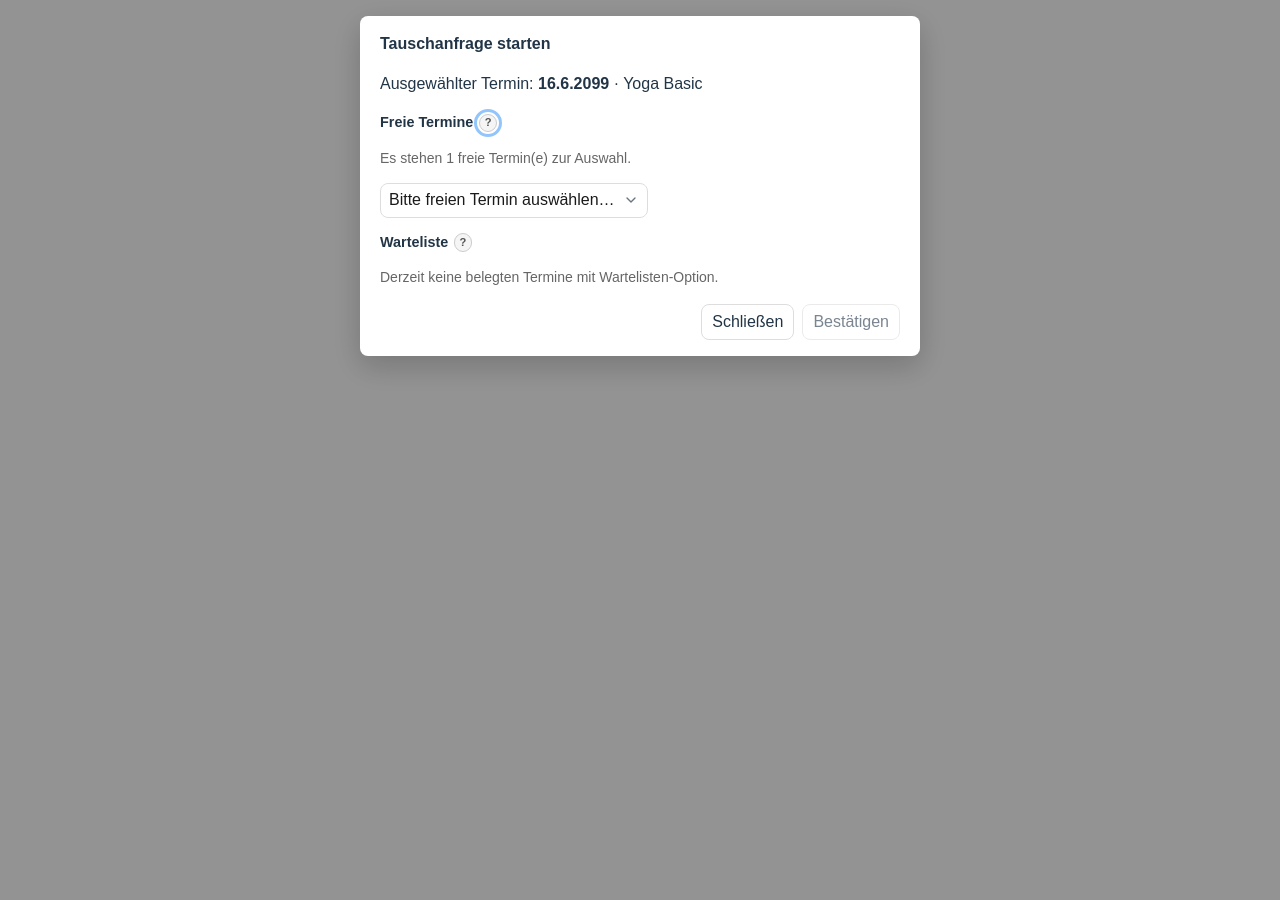
Test: CourseSwapModal › meldet Hilfetext beim Öffnen über aria-live
Click the button named "Hilfe: Freie Tauschtermine" at point(488, 123), box [479,114,497,132]
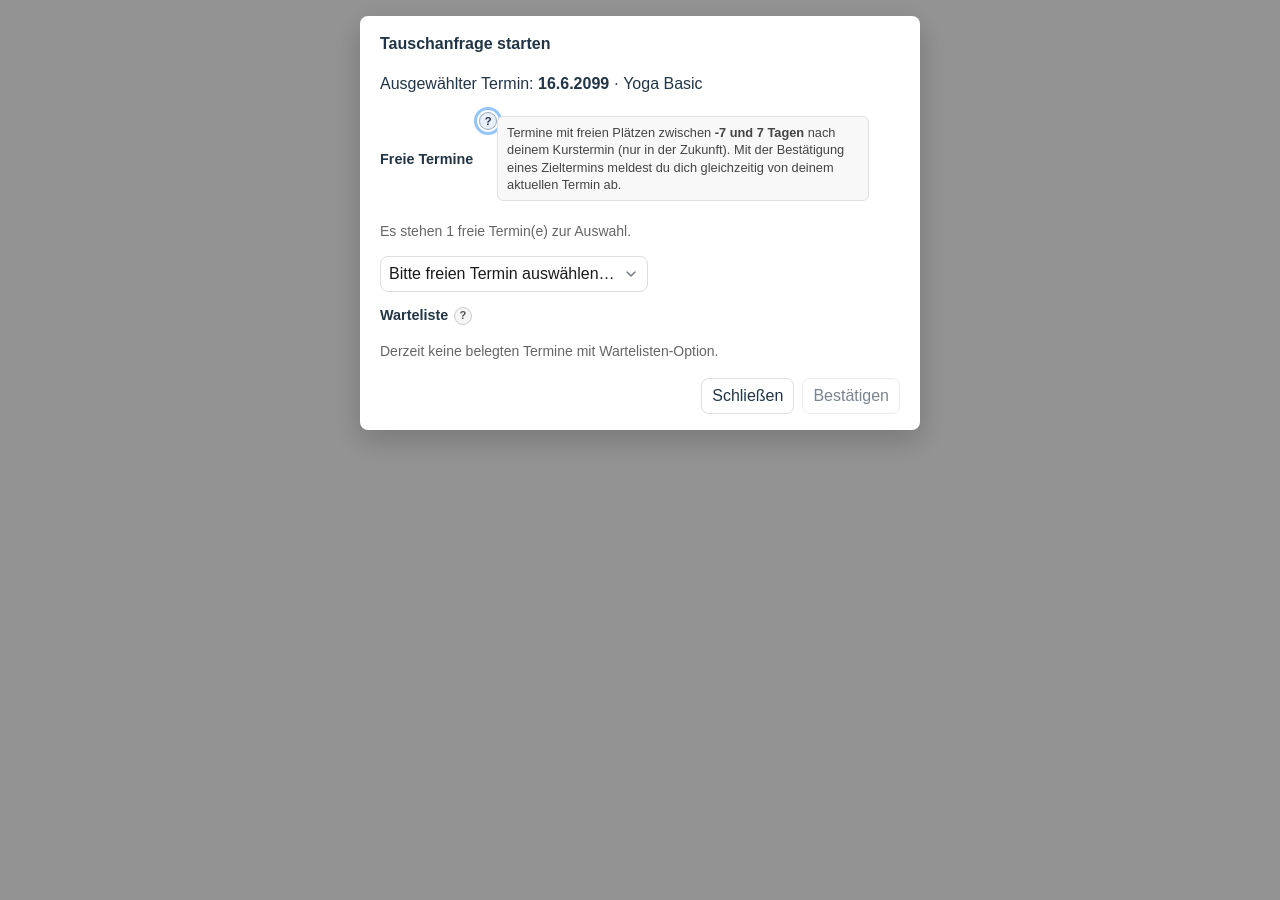
Result: the element named "Freie Tauschtermine" is shown at [497,116,869,201]
